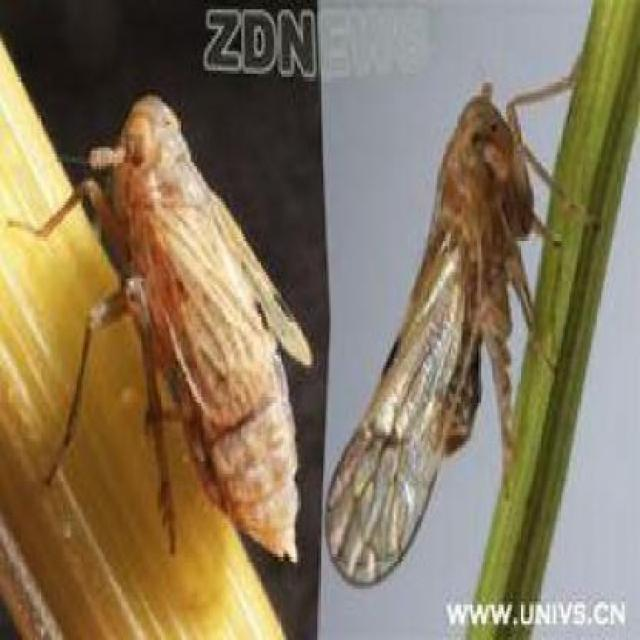brown-planthopper: (315, 81, 560, 607), (90, 88, 304, 570)
